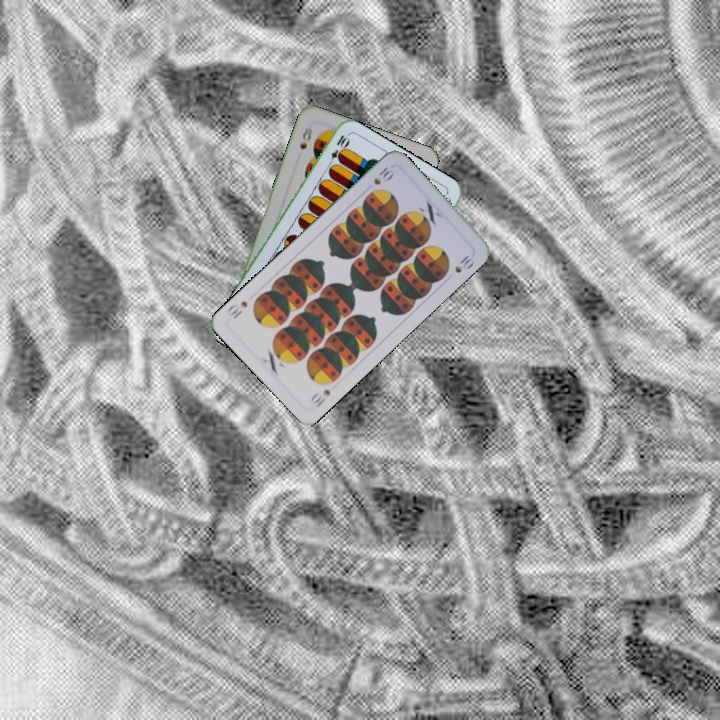E10: (324, 131, 351, 170)
S10: (306, 385, 333, 410), (369, 162, 395, 187)
S8: (296, 123, 315, 152)
